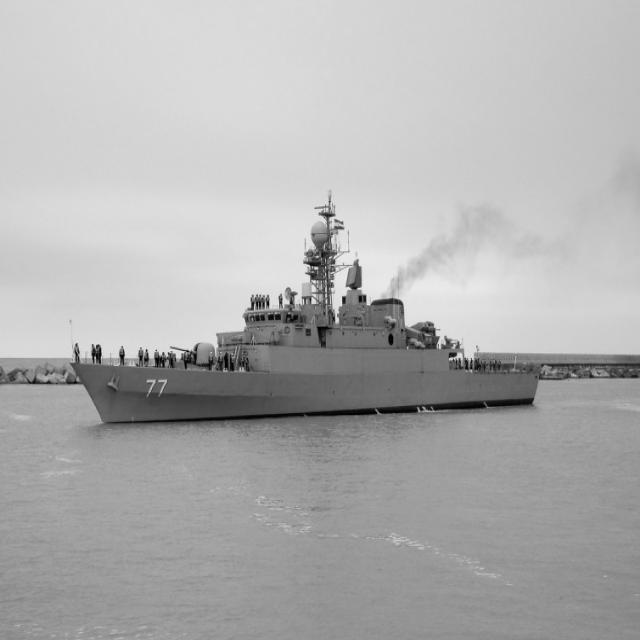Fragata: (69, 188, 544, 432)
